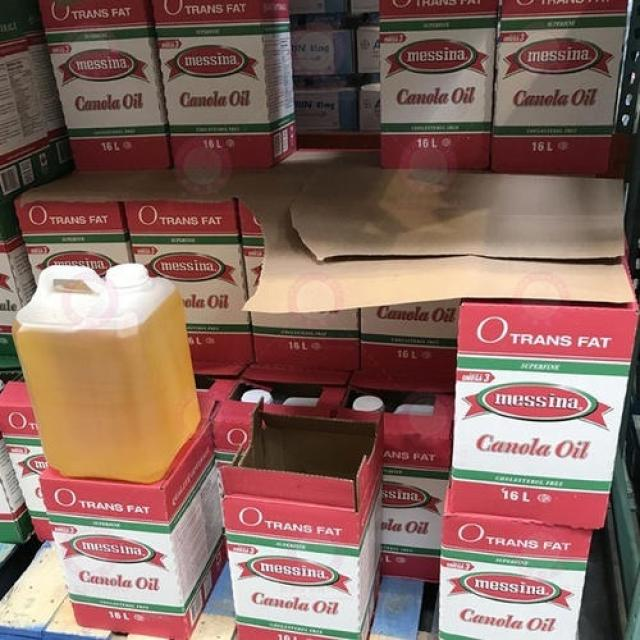box: (450, 298, 639, 529), (39, 419, 229, 639), (219, 397, 384, 639), (439, 478, 594, 639), (337, 372, 455, 583), (152, 0, 297, 168), (490, 0, 628, 175), (38, 0, 172, 173), (122, 197, 254, 363), (378, 0, 496, 170), (1, 0, 61, 206), (14, 199, 134, 288), (0, 381, 55, 541), (359, 298, 461, 376), (249, 308, 360, 370), (1, 199, 37, 368), (0, 430, 35, 543), (291, 30, 353, 75), (294, 88, 357, 132), (357, 26, 380, 74), (361, 83, 380, 131)
